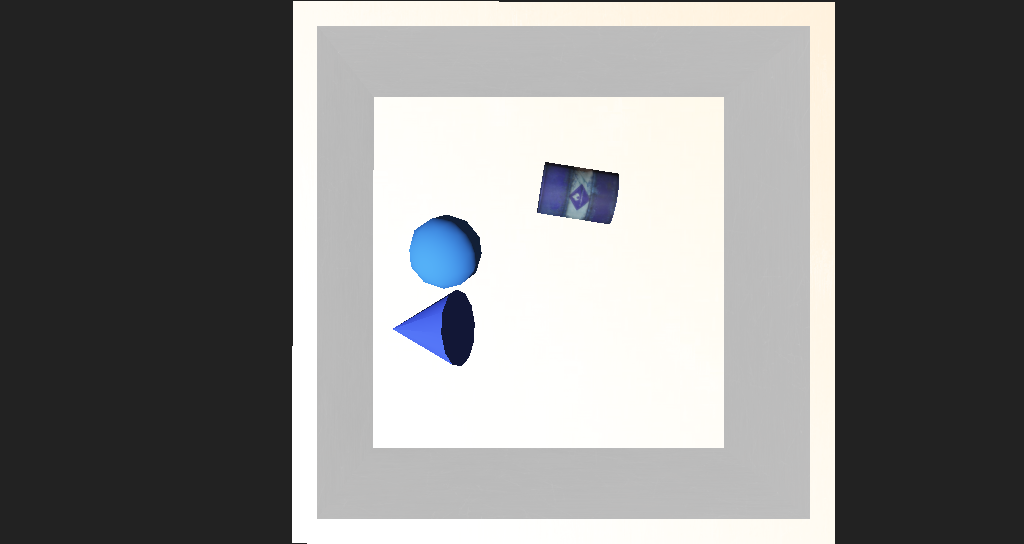cone: (495, 200, 569, 239)
cylinder: (347, 279, 448, 332)
sphere: (387, 236, 448, 279)
